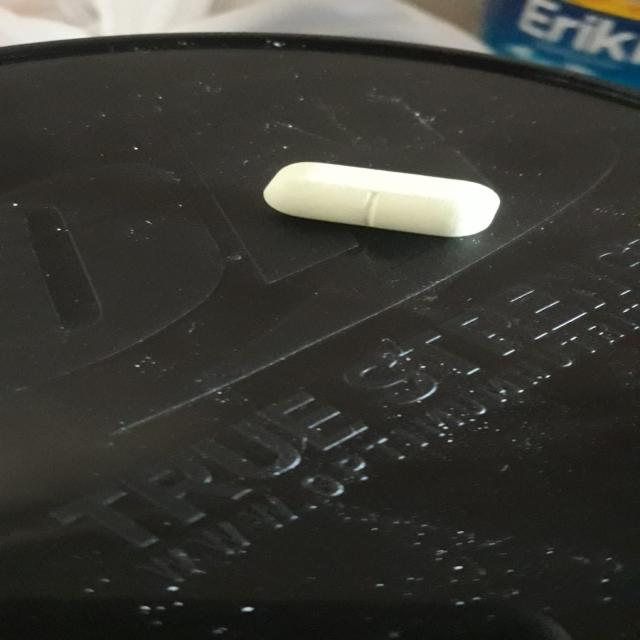pills: (240, 147, 516, 252)
